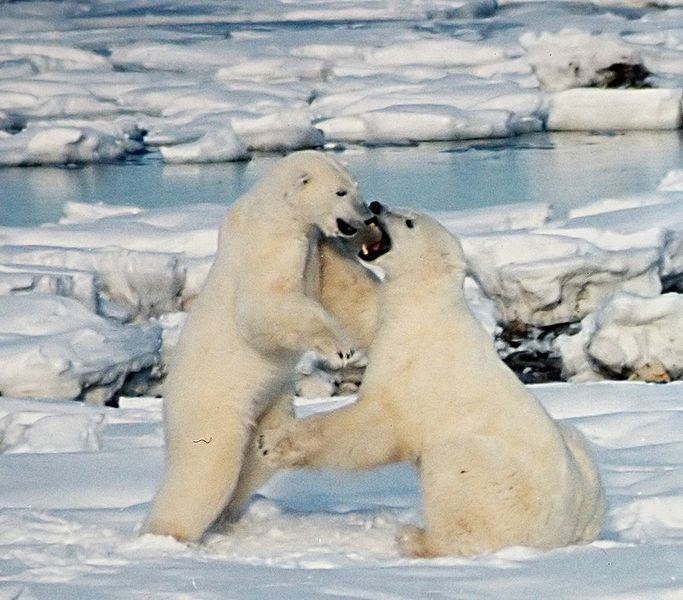Polar Bear: (138, 79, 373, 600), (365, 162, 536, 568)
